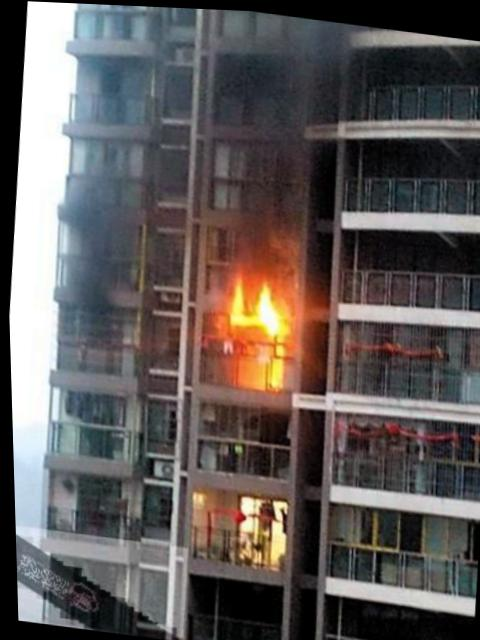fire: (248, 274, 284, 329), (224, 268, 254, 322)
